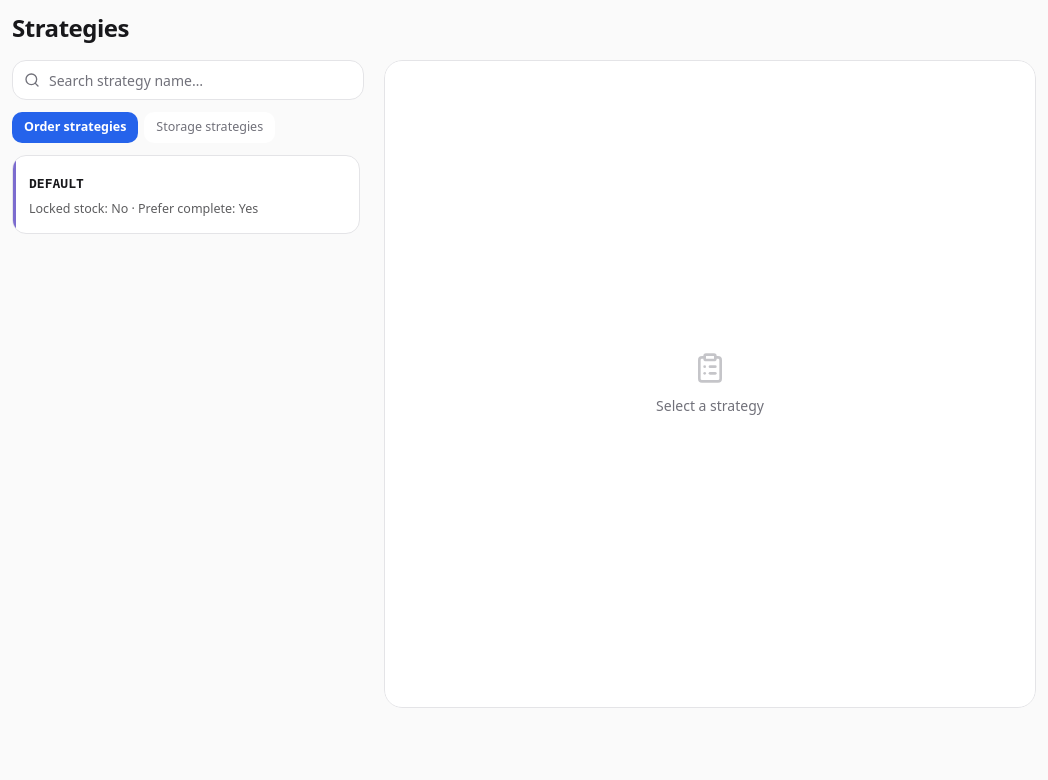
Scenario: StrategiesPage › strategy-create is visible only for the kind with write permission (layout-write)
The image size is (1048, 780).
Switch to Storage chip, has layout-write permission -- create button visible
Click the button "Storage strategies" at (210, 127), box top-left (144, 112), bottom-right (275, 143)
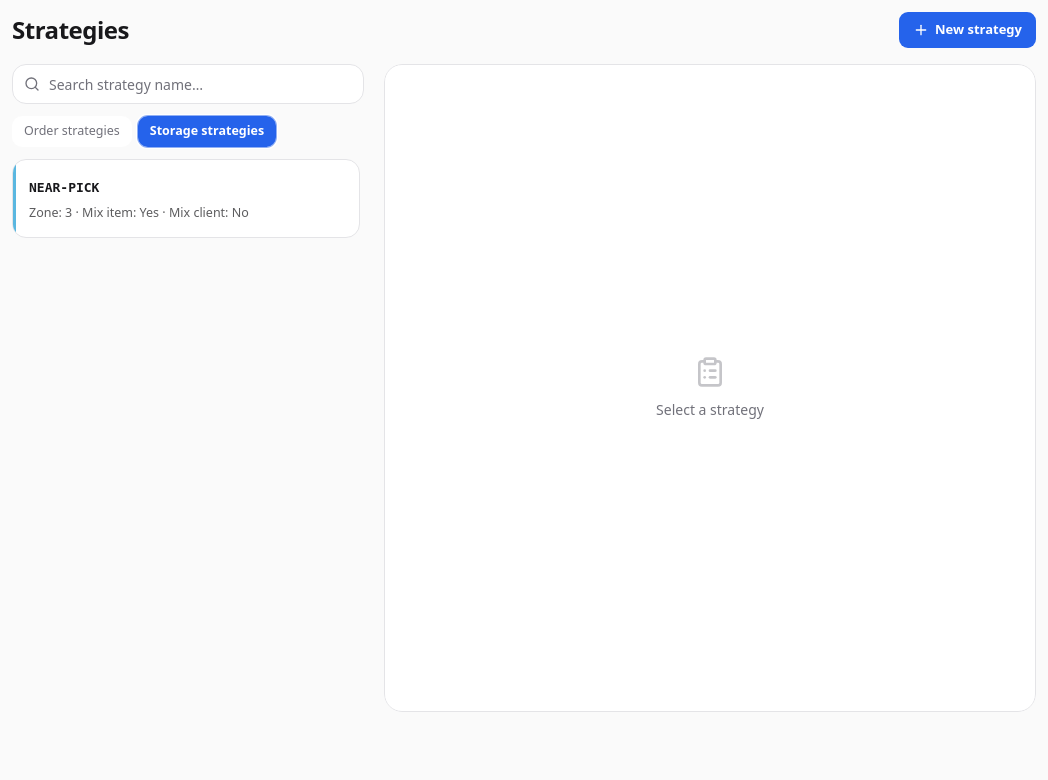
expect the button with test id "strategy-create" is shown: met, box top-left (899, 12), bottom-right (1036, 48)
